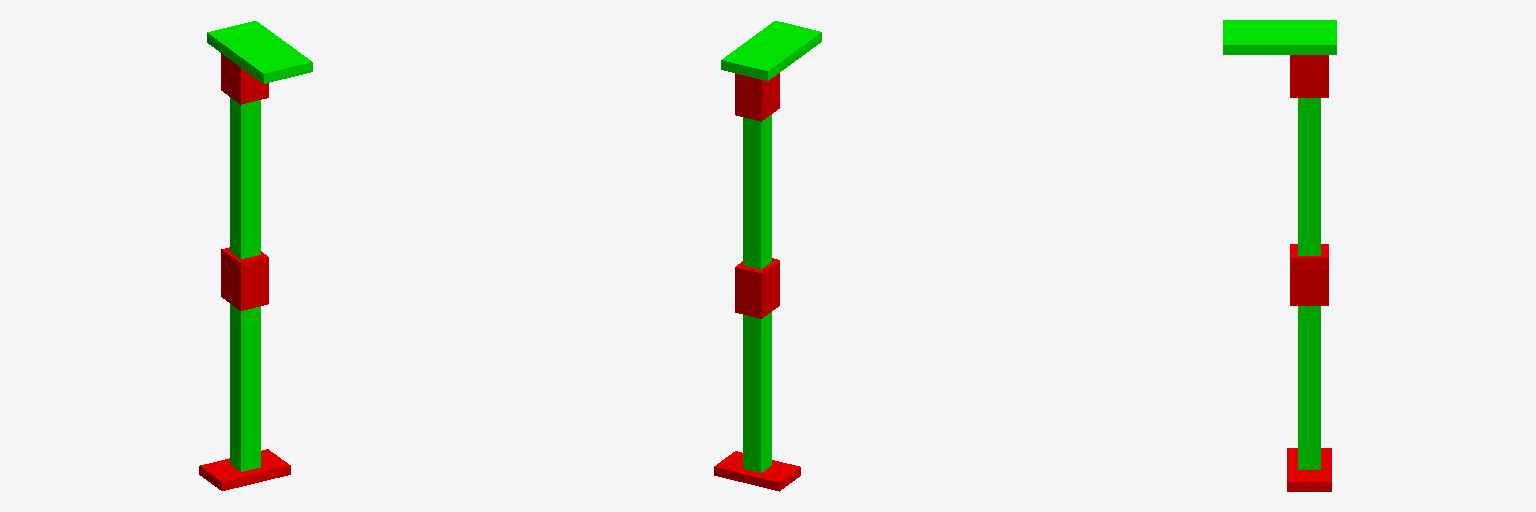
URDF robot description (DoublePendulum):
<?xml version="1.0"?>

<robot name="DoublePendulum">

<link name="hips_link">
    <inertial>
      <origin xyz="0 0.00 0" rpy="0 0 0" />
      <mass value="0.00625" />
      <inertia ixx="5.2604166666667e-6" ixy="0" ixz="0" iyy="1.3541666666667e-6" iyz="0" izz="6.5104166666667e-6" />
    </inertial>
     <visual>
      <origin xyz="0 0.00 0" rpy="0 0 0" />
      <geometry>
         <box size=".05 .1 .01" />
      </geometry>
      <material name="green">
	       <color rgba="0 1 0 1" />
      </material>
    </visual>
  </link>

  <joint name="l_hip_to_motor" type="fixed">
    <parent link="hips_link" />
    <child link="l_hip_motor" />
    <origin xyz="0 .026 -0.04025" rpy="0 0 0"/>
  </joint>

  <link name="l_hip_motor">
    <inertial>
      <origin xyz="0 .0 0.012" rpy="0 0 0" />
      <mass value="0.083" />
      <inertia ixx=" 5.96686e-5" ixy="-8.14034e-8" ixz="1.30798e-7" iyy="5.68819e-5" iyz="-1.96593e-6" izz="4.90513e-5" />
    </inertial>
    <visual>
      <origin xyz="0 0 0.012" rpy="0 0 0" />
      <geometry>
         <box size=".0285 .034 .0465 " />
      </geometry>
      <material name="red">
	       <color rgba="1 0 0 1" />
      </material>
    </visual>
  </link>

  <joint name="l_hip" type="revolute">
    <parent link="l_hip_motor" />
    <child link="l_thigh_link" />
    <origin xyz="0 0 0" rpy="0 0 0" />
    <axis xyz="0 1 0" />
    <limit effort="3.4" lower="-1.57" upper="1.57" velocity="3.1415"/>
     <dynamics damping="1" />
    <safety_controller k_velocity="10" k_position="15" soft_lower_limit="-2.0" soft_upper_limit="0.5" />
  <!----></joint>

  <link name="l_thigh_link">
    <inertial>
      <origin xyz="0 0 -.088625" rpy="0 0 0" />
      <mass value=".118" />
      <inertia ixx="2.39417e-4" ixy="0" ixz="0" iyy="2.39417e-4" iyz="0" izz="7.867e-6" />
    </inertial>
    <visual>
      <origin xyz="0 0 -.088625" rpy="0 0 0" />
      <geometry>
         <box size=".02 .02 .15475" />
      </geometry>
      <material name="green">
	       <color rgba="0 1 0 1" />
      </material>
    </visual>
  </link>

  <joint name="l_thigh_link_to_motor" type="fixed">
    <parent link="l_thigh_link" />
    <child link="l_thigh_motor" />
    <origin xyz="0 0 -0.20125 " rpy="0 0 0"/>
  </joint>

  <link name="l_thigh_motor">
    <inertial>
      <origin xyz="0 0 0.012" rpy="0 0 0" />
      <mass value="0.083" />
      <inertia ixx="5.9855e-5" ixy="-7.46977e-8" ixz="1.208e-7" iyy=" 5.70714e-5" iyz="-1.92993e-6" izz="4.91179e-5" />
    </inertial>
    <visual>
      <origin xyz="0 0 0.012" rpy="0 0 0" />
      <geometry>
         <box size=".0285 .034 .0465 " />
      </geometry>
      <material name="red">
	       <color rgba="1 0 0 1" />
      </material>
    </visual>
  </link>

  <joint name="l_knee" type="fixed">
    <parent link="l_thigh_motor" />
    <child link="l_leg_link" />
    <origin xyz="0 0 0.0" />
    <axis xyz="0 1 0" />
    <limit effort="2.5" lower="-1.57" upper="1.57" velocity="5.23"/>
    <dynamics damping="1" />
    <safety_controller k_velocity="10" k_position="15" soft_lower_limit="-2.0" soft_upper_limit="0.5" />
  <!----></joint>


  <link name="l_leg_link">
    <inertial>
      <origin xyz="0 0 -0.091625" rpy="0 0 0" />
      <mass value="0.1" />
      <inertia ixx="2.18671e-4" ixy="0" ixz="0" iyy="2.18671e-4" iyz="0" izz="6.667e-6" />
    </inertial>
    <visual>
      <origin xyz="0 0 -0.091625" rpy="0 0 0" />
      <geometry>
         <box size=".02 .02 .16075" />
      </geometry>
      <material name="green">
	       <color rgba="0 1 0 1" />
      </material>
    </visual>
  </link>

  <joint name="l_ankle" type="fixed">
    <parent link="l_leg_link" />
    <child link="l_foot_link" />
    <origin xyz="0 0 -.172" />
    <axis xyz="0 1 0" />
    <limit effort="1000.0" lower="-0.785" upper="0.785" velocity="5.26"/>
    <dynamics damping="10" />
    <safety_controller k_velocity="10" k_position="15" soft_lower_limit="-2.0" soft_upper_limit="0.5" />
  <!---->
  </joint>


  <link name="l_foot_link">
    <inertial>
      <origin xyz="0 0 -0.0045" rpy="0 0 0" />
      <mass value="0.041" />
      <inertia ixx="5.7434e-6" ixy="0" ixz="0" iyy="1.7018e-5" iyz="0" izz="2.2208e-5" />
    </inertial>
    <visual>
      <origin xyz="0 0 -0.0045" rpy="0 0 0" />
        <geometry>
            <box size=".07 .04 0.009" />
        </geometry>
      <material name="red">
	       <color rgba="1 0 0 1" />
      </material>
    </visual>
  </link>
</robot>

--- Render facts (derived) ---
3 views of the same robot in one strip: view 1: azimuth 30°, elevation 25°; view 2: azimuth 150°, elevation 25°; view 3: azimuth 270°, elevation 25° (orthographic).
Model DoublePendulum with 6 links and 5 joints (1 revolute, 4 fixed), rooted at hips_link, posed all joints at 0.
Links seen in each view (by area): view 1: l_leg_link, l_thigh_link, hips_link, l_thigh_motor, l_foot_link, l_hip_motor; view 2: l_leg_link, l_thigh_link, hips_link, l_thigh_motor, l_hip_motor, l_foot_link; view 3: hips_link, l_leg_link, l_thigh_link, l_thigh_motor, l_hip_motor, l_foot_link.
Boxes of the visible links, x1,y1,x2,y2 form: l_leg_link: (230,304,260,471); l_thigh_link: (230,97,260,258); hips_link: (207,21,312,83); l_thigh_motor: (221,247,268,310); l_foot_link: (199,449,290,490); l_hip_motor: (221,53,268,104); l_leg_link: (743,312,771,472); l_thigh_link: (743,115,771,269); hips_link: (721,21,821,80); l_thigh_motor: (735,258,779,318); l_hip_motor: (735,73,779,121); l_foot_link: (714,451,800,491); hips_link: (1223,20,1336,54); l_leg_link: (1298,306,1320,469); l_thigh_link: (1298,98,1320,255); l_thigh_motor: (1290,244,1328,305); l_hip_motor: (1290,55,1328,97); l_foot_link: (1287,448,1331,491).
Size in the robot's own frame: 0.07 by 0.1 by 0.4275 metres.
Geometry: primitives only (box / cylinder / sphere), no mesh files.